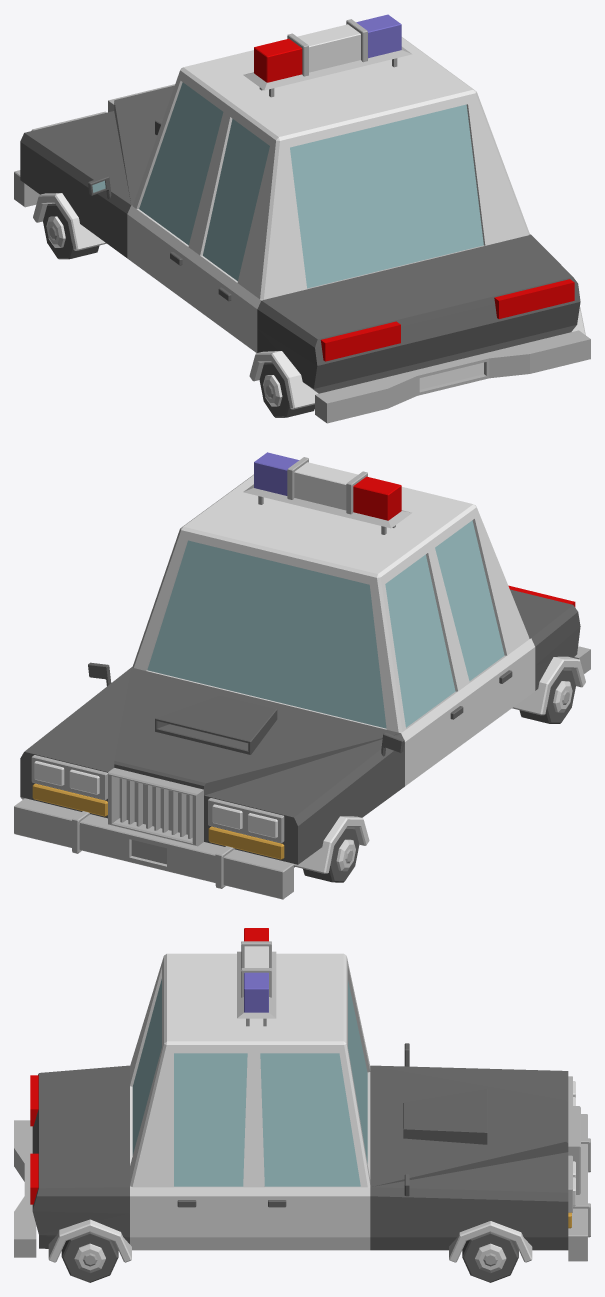
Rendered from CopCar.fbx.
The picture shows the model from 3 angles, top to bottom: view 1: azimuth 30°, elevation 25°; view 2: azimuth 150°, elevation 25°; view 3: azimuth 270°, elevation 25°; orthographic projection. The views are drawn at different scales.
Visible parts, largest first — view 1: polySurface6; view 2: polySurface6; view 3: polySurface6.
Boxes of the visible parts, box(x1,y1,x2,y2) form: polySurface6: box(14, 14, 590, 423); polySurface6: box(14, 452, 590, 899); polySurface6: box(14, 928, 590, 1282).
Size of the model in its own units: 0.6422 by 0.555 by 1.1.
